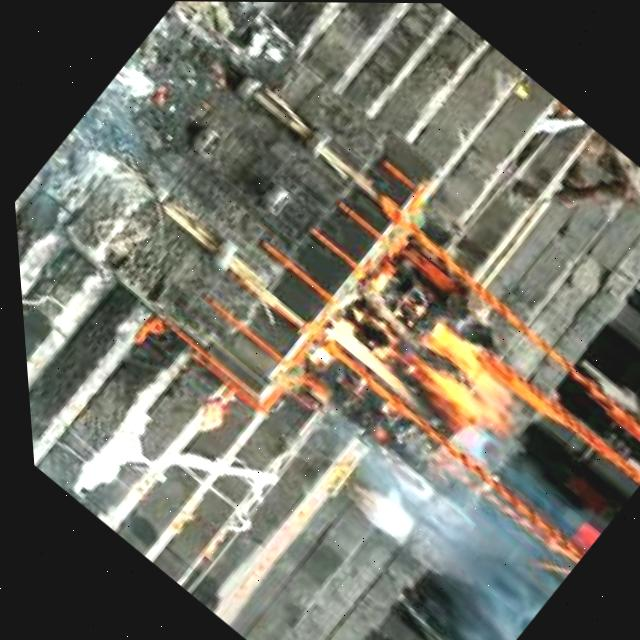Fire: (308, 263, 543, 474), (307, 262, 542, 473)
